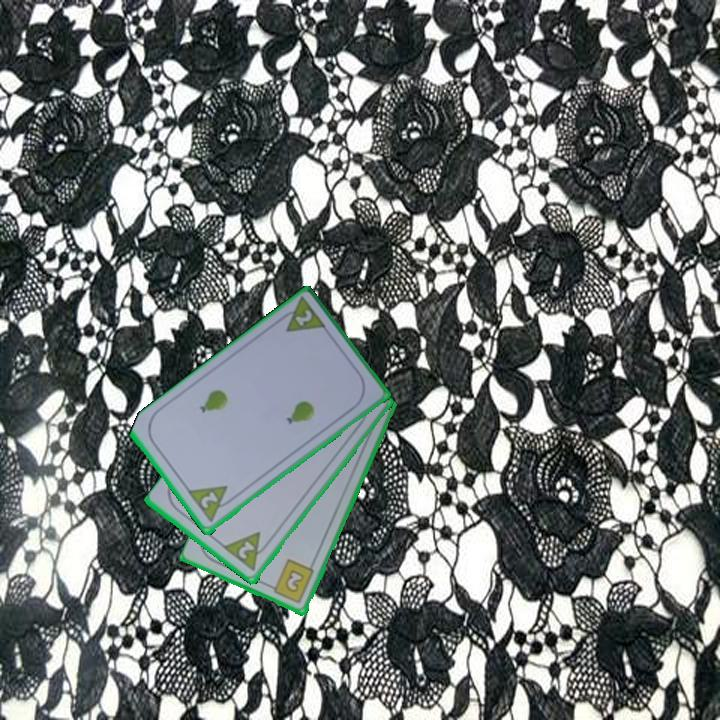2b: (265, 556, 317, 607)
2p: (273, 294, 329, 336), (197, 488, 221, 512), (234, 538, 257, 563)
